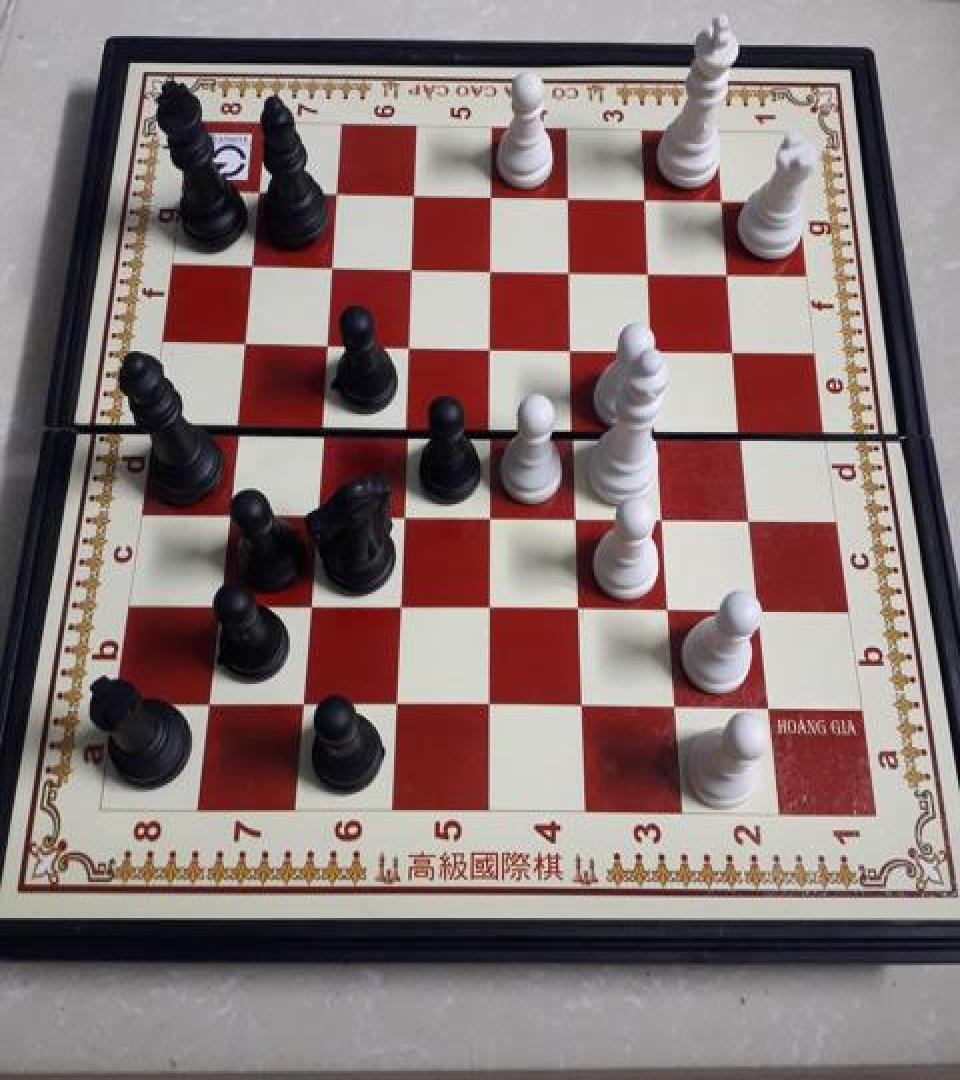xcorner: (662, 688, 694, 725), (755, 689, 787, 726), (475, 588, 507, 625), (192, 684, 224, 720), (287, 685, 319, 721), (381, 686, 413, 722), (475, 688, 507, 724), (568, 688, 600, 724), (202, 585, 234, 621), (293, 586, 325, 622), (384, 587, 416, 623), (565, 590, 597, 626), (655, 590, 687, 626), (745, 590, 777, 626), (211, 492, 243, 528), (299, 493, 331, 529), (387, 494, 419, 530), (475, 496, 507, 532), (562, 497, 594, 533), (649, 498, 681, 534), (736, 500, 768, 536), (219, 405, 251, 441), (305, 406, 337, 442), (390, 408, 422, 444), (474, 410, 506, 446), (559, 410, 591, 446), (643, 412, 675, 448), (727, 413, 759, 449), (227, 324, 259, 360), (310, 325, 342, 361), (392, 328, 424, 364), (556, 330, 588, 366), (638, 331, 670, 367), (719, 332, 751, 368), (235, 248, 267, 284), (315, 250, 347, 286), (395, 251, 427, 287), (474, 252, 506, 288), (554, 253, 586, 289), (633, 256, 665, 292), (712, 256, 744, 292), (242, 176, 274, 212), (319, 178, 351, 214), (397, 179, 429, 215), (474, 180, 506, 216), (551, 182, 583, 218), (628, 184, 660, 220), (705, 184, 737, 220), (474, 329, 506, 364)
